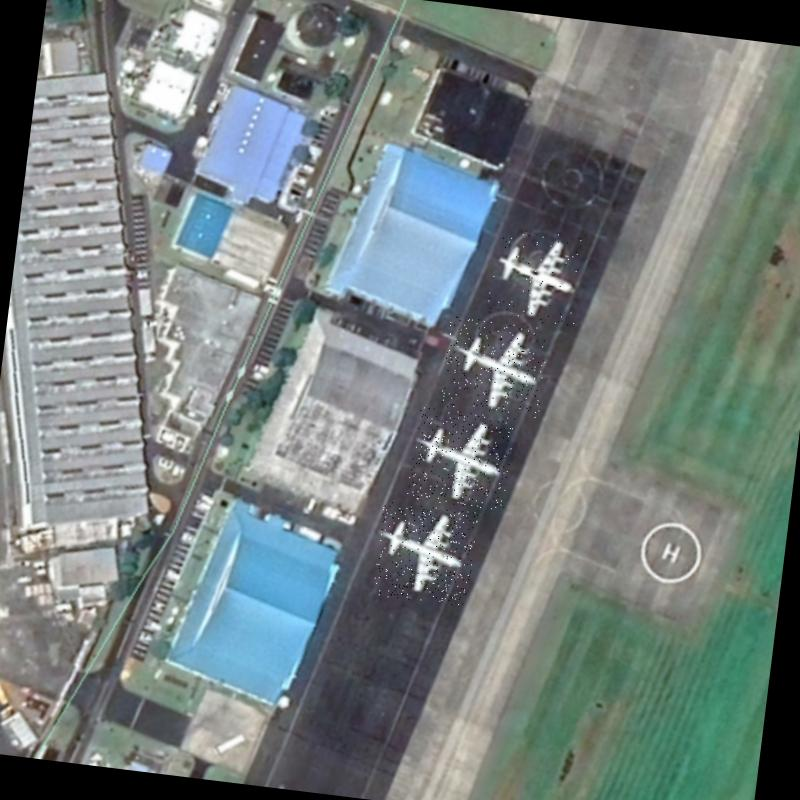A9: (406, 406, 515, 511), (440, 314, 549, 418), (372, 500, 478, 606), (484, 225, 586, 328)
